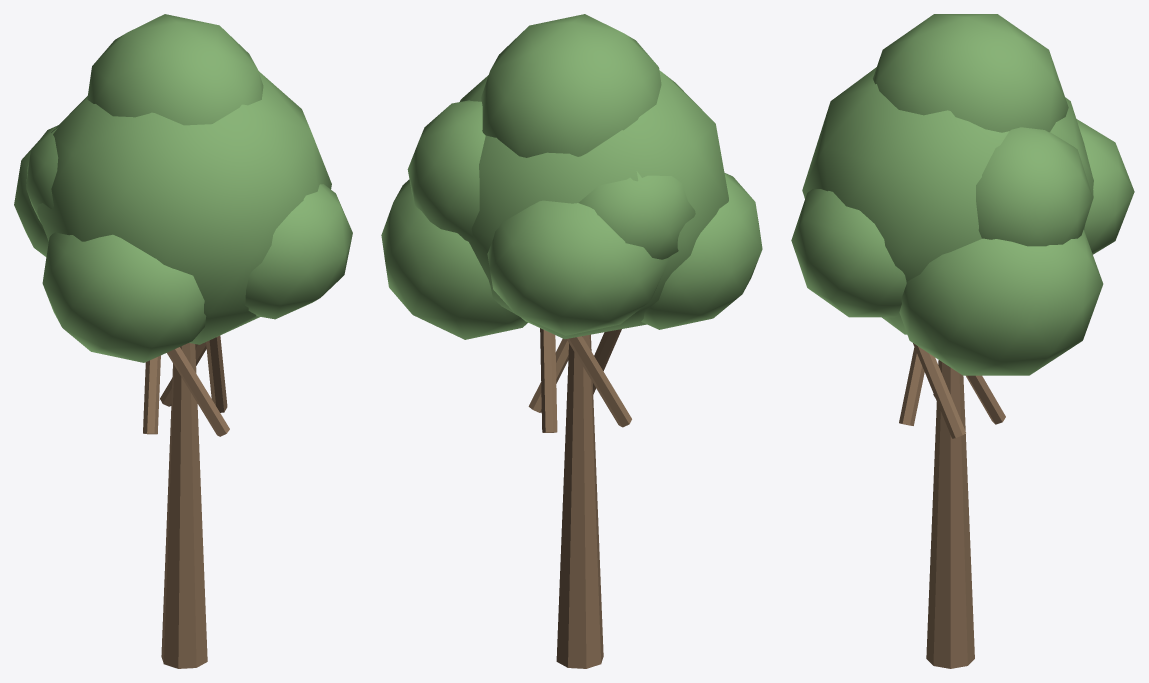
Rendered from tree.glb.
3 renders of one model, left to right at view 1: azimuth 30°, elevation 25°; view 2: azimuth 150°, elevation 25°; view 3: azimuth 270°, elevation 25°, orthographic.
Visible parts, largest first — view 1: Tree_Stylized; view 2: Tree_Stylized; view 3: Tree_Stylized.
Boxes of the visible parts, <box> form: Tree_Stylized: <box>14,14,352,668</box>; Tree_Stylized: <box>381,14,762,668</box>; Tree_Stylized: <box>791,14,1134,668</box>.
Bounding box in the file's own units: 2.33 × 4.65 × 2.26.
